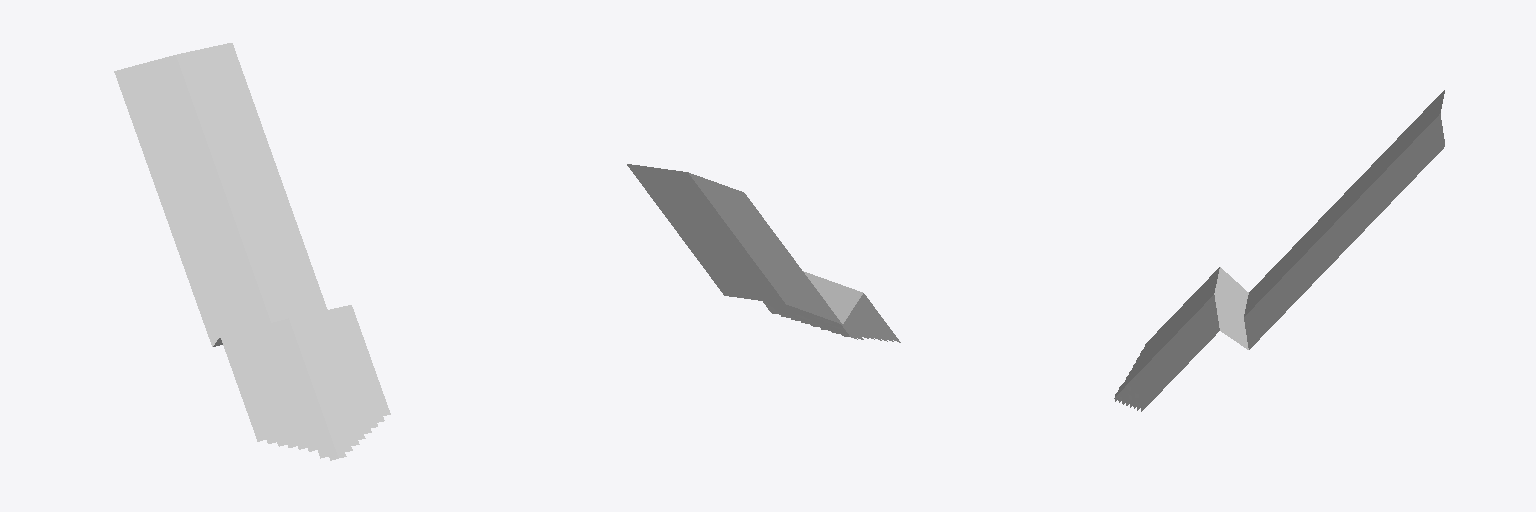
The model's file is CleaningBar2.obj.
3 renders of one model, left to right at view 1: azimuth 30°, elevation 25°; view 2: azimuth 150°, elevation 25°; view 3: azimuth 270°, elevation 25°, orthographic.
Parts seen in each view (by area): view 1: CleaningBarRedButton_Cylinder.009; view 2: CleaningBarRedButton_Cylinder.009; view 3: CleaningBarRedButton_Cylinder.009.
Boxes of the visible parts, <box> form: CleaningBarRedButton_Cylinder.009: <box>114,43,390,460</box>; CleaningBarRedButton_Cylinder.009: <box>627,164,900,342</box>; CleaningBarRedButton_Cylinder.009: <box>1114,90,1444,411</box>.
Bounding box in the file's own units: 0.0488 × 0.101 × 0.1063.